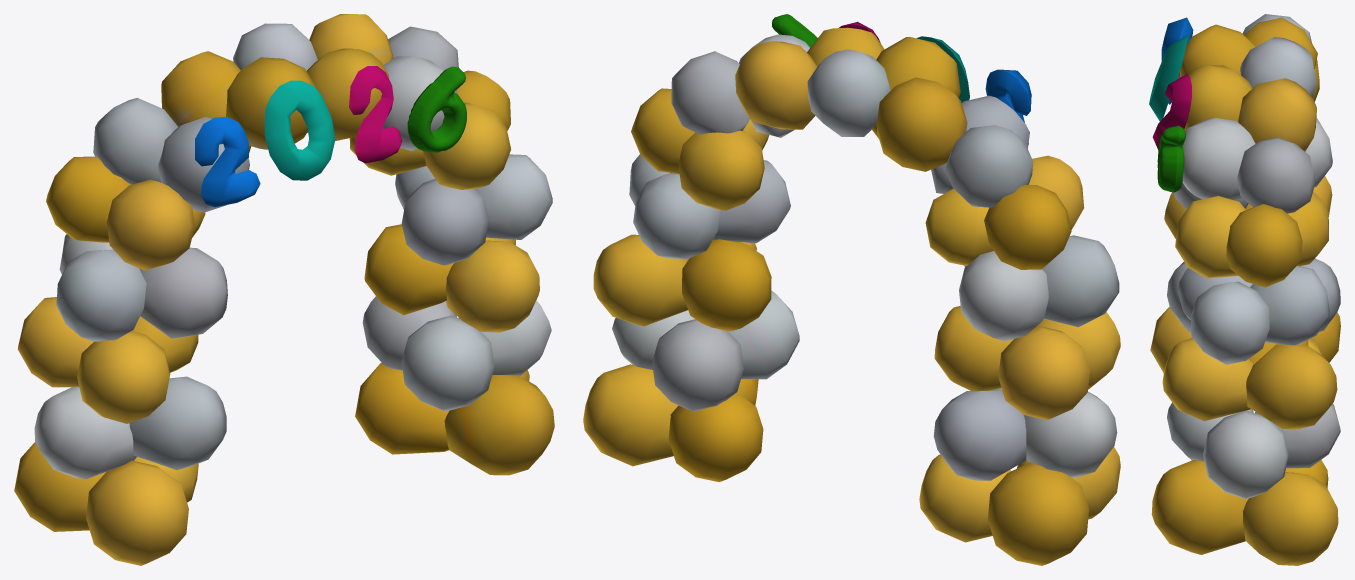
3 renders of one model, left to right at view 1: azimuth 30°, elevation 25°; view 2: azimuth 150°, elevation 25°; view 3: azimuth 270°, elevation 25°, orthographic. The views are drawn at different scales.
Bounding box in the file's own units: 30.25 × 26.36 × 10.77.
1 material, 1 textured.
